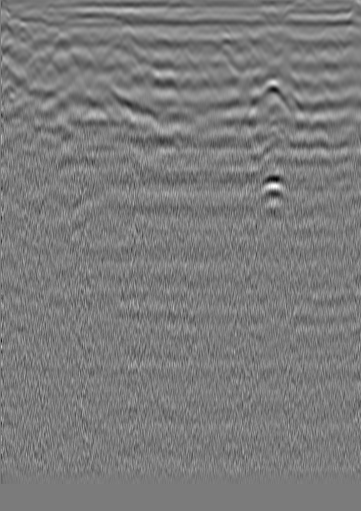가스: (253, 167, 295, 201)
상수: (1, 18, 21, 38)
오수: (317, 23, 337, 43)
우수: (153, 34, 173, 54)
